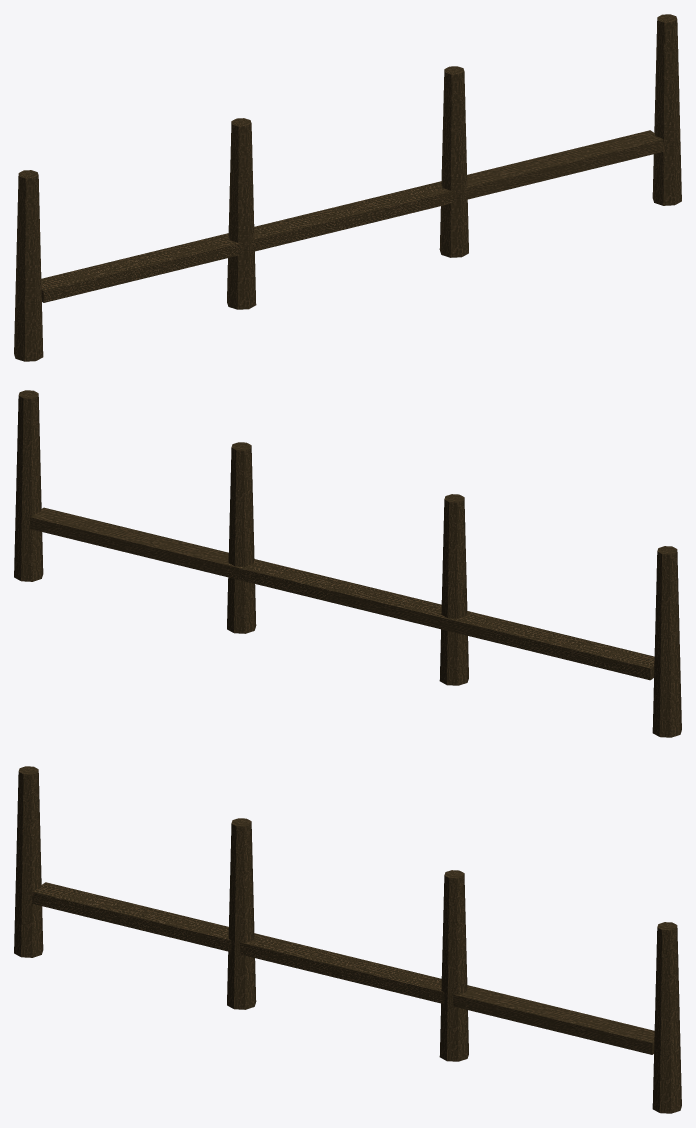
The picture shows the model from 3 angles, top to bottom: view 1: azimuth 30°, elevation 25°; view 2: azimuth 150°, elevation 25°; view 3: azimuth 330°, elevation 25°; orthographic projection.
Parts seen in each view (by area): view 1: Postes_de_madera.010, barandal.011; view 2: Postes_de_madera.010, barandal.011; view 3: Postes_de_madera.010, barandal.011.
Part boxes in pixels (x1,y1,x2,y2): Postes_de_madera.010: [14, 14, 681, 361]; barandal.011: [41, 130, 663, 302]; Postes_de_madera.010: [14, 390, 681, 737]; barandal.011: [30, 507, 654, 680]; Postes_de_madera.010: [14, 766, 681, 1113]; barandal.011: [32, 882, 654, 1054].
Bounding box in the file's own units: 3.39 × 0.883 × 0.134.
2 materials, 2 textured.
